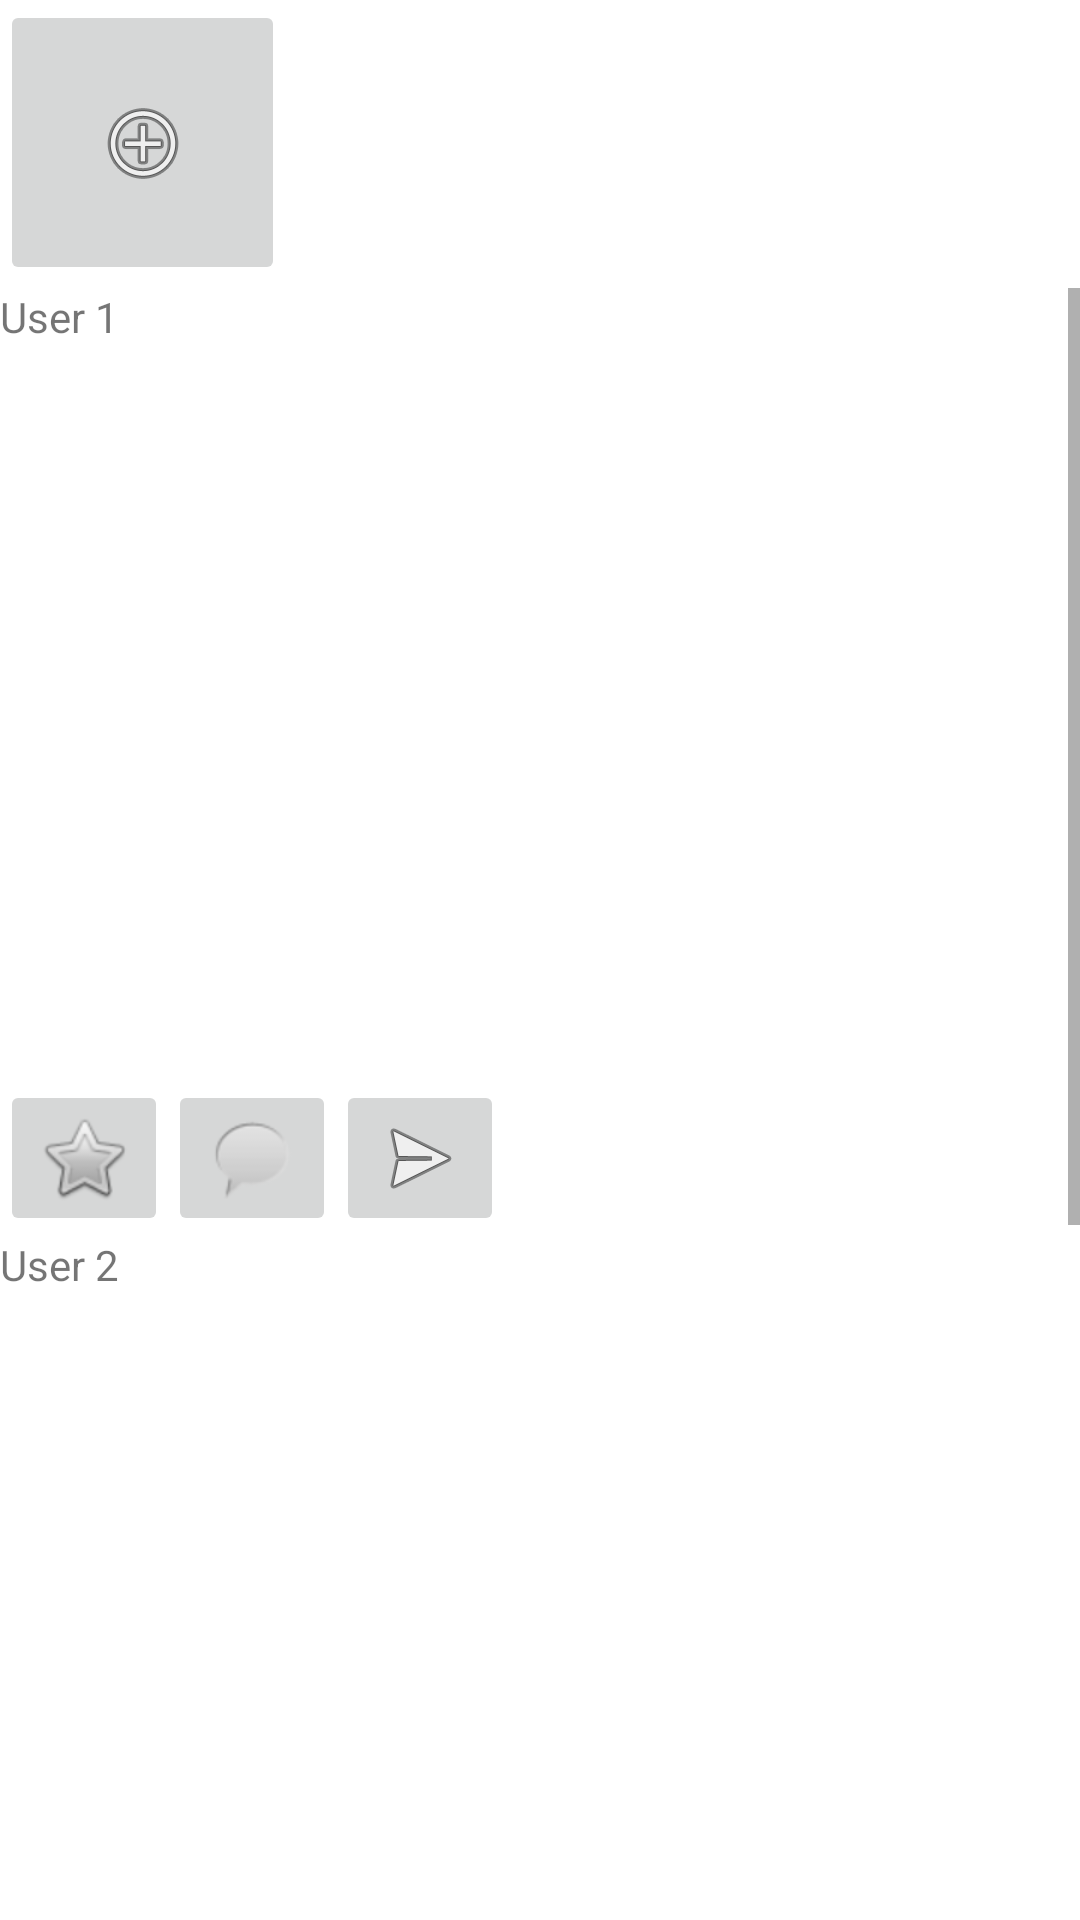

Icon click points for this 1080w x 1920h phone screenshot, format point (x, y):
add: point (142, 142)
send: point (420, 1158)
star off: point (84, 1158)
sym action chat: point (252, 1158)
